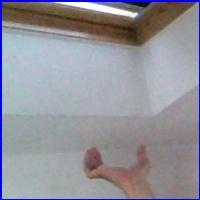space: (77, 137, 163, 192)
